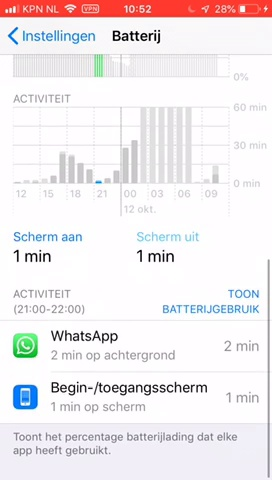activity: (8, 286, 91, 317)
app: (6, 326, 264, 370), (5, 377, 263, 421)
